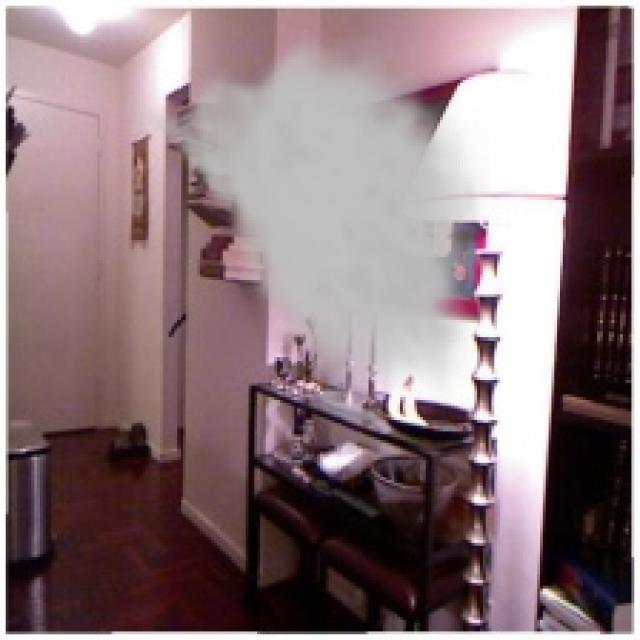smoke: (117, 26, 489, 411)
